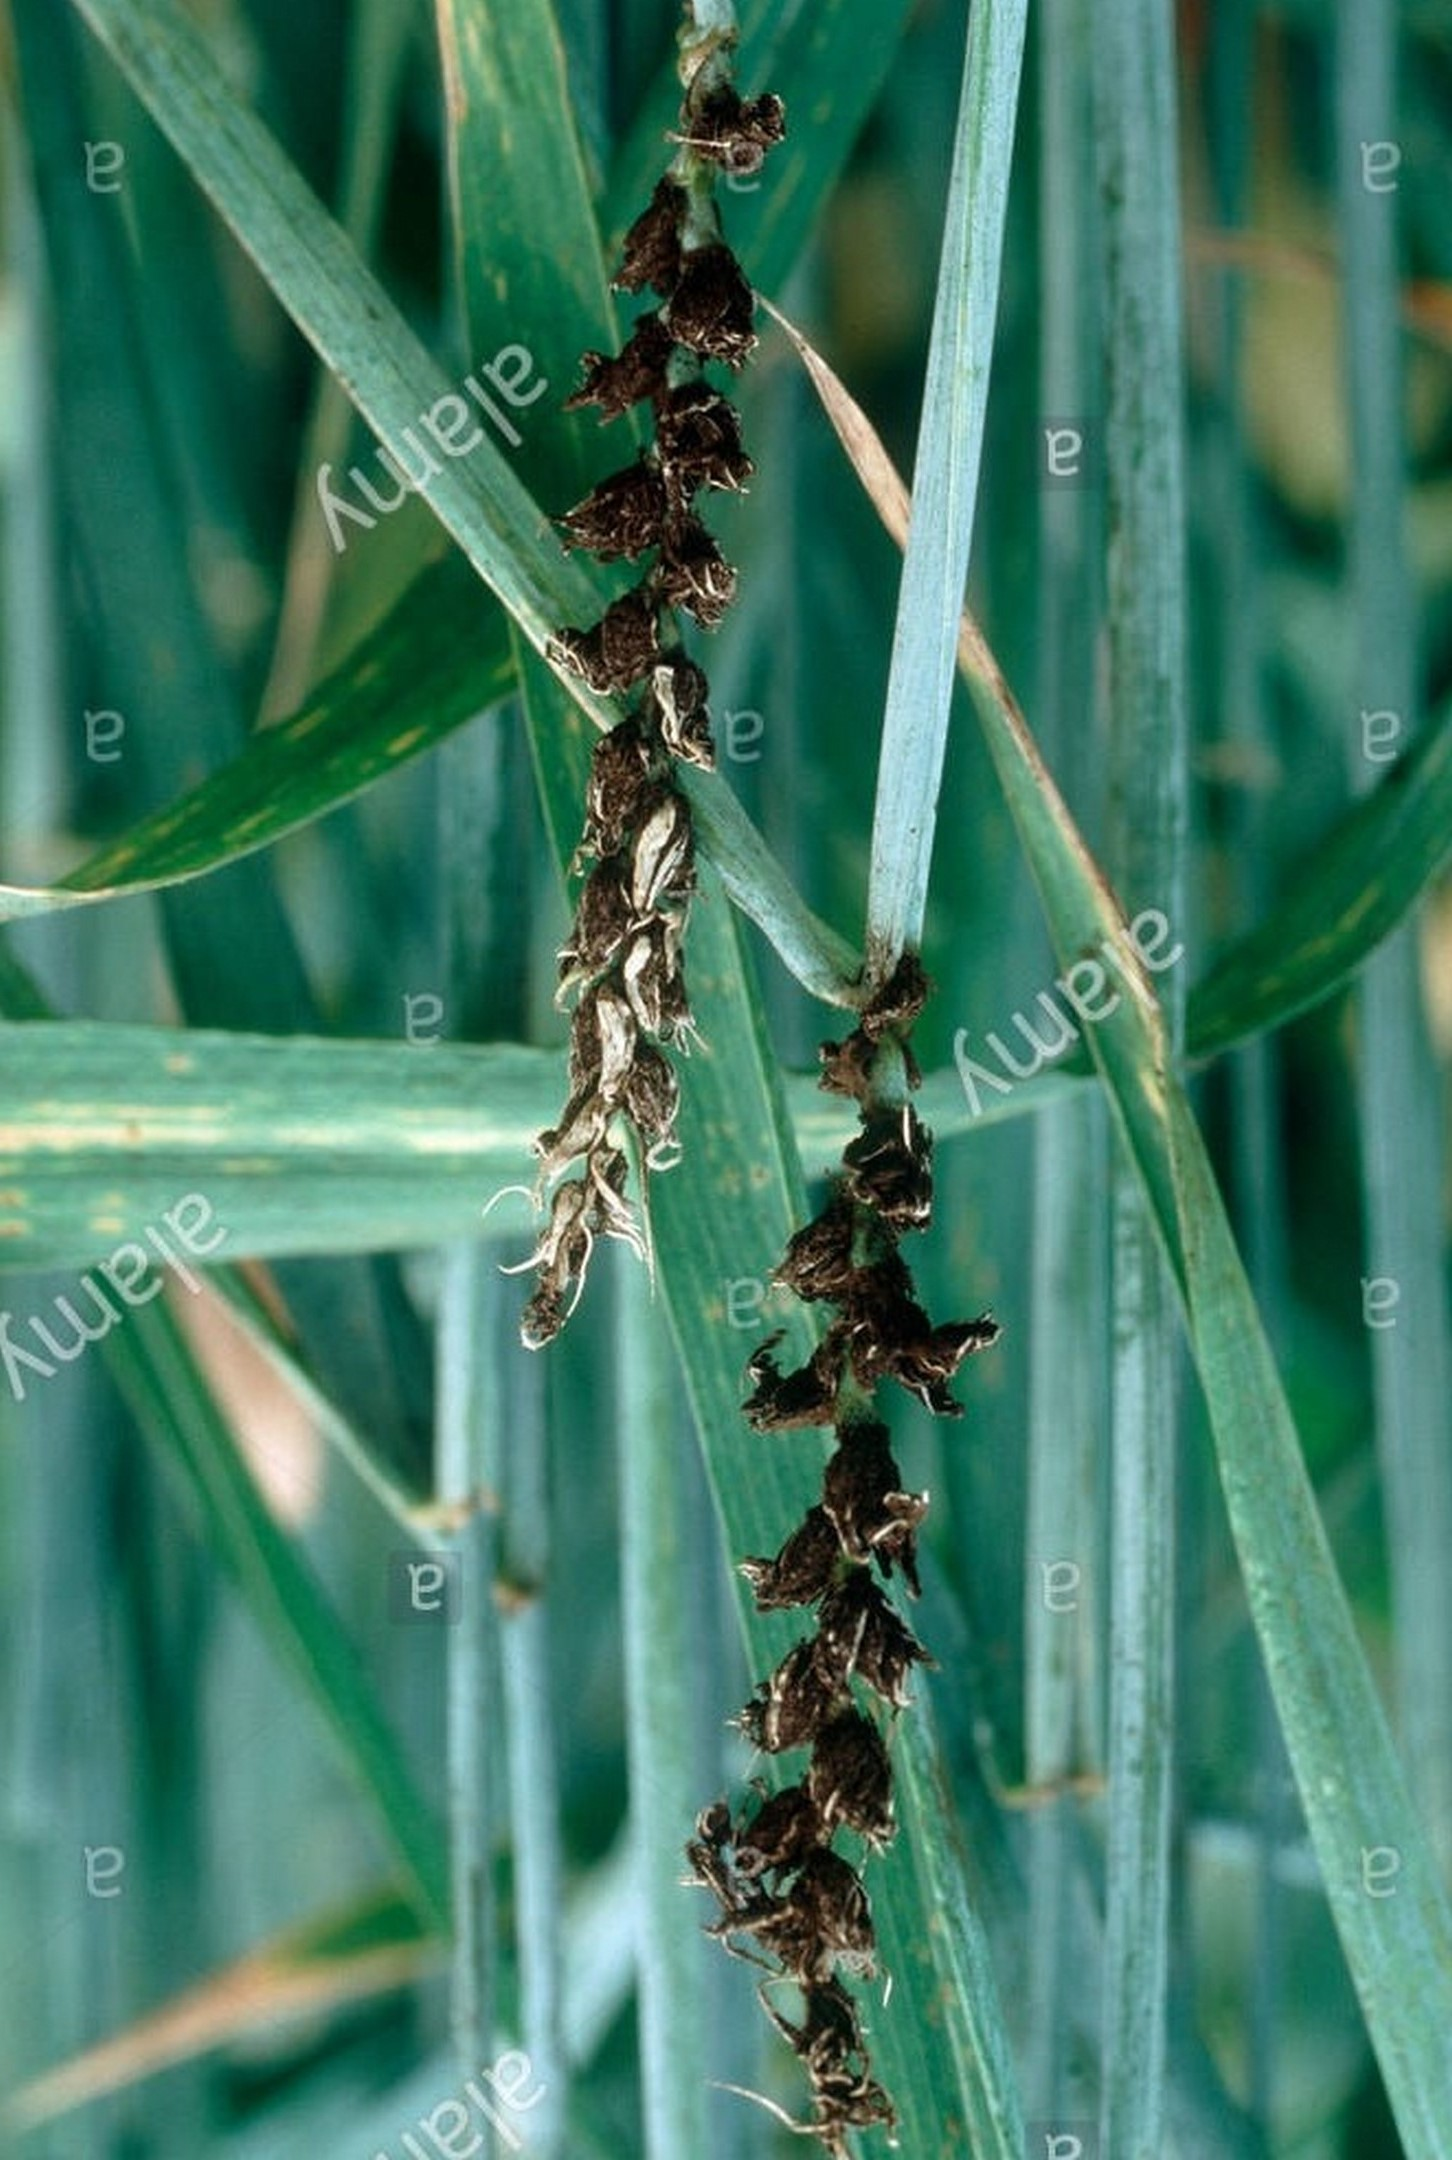Wheat Loose Smut: (650, 980, 1060, 2089), (468, 70, 851, 1256)
